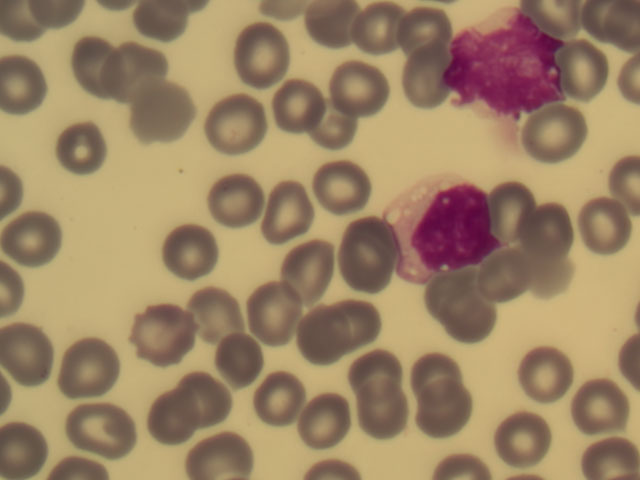RBC: (58, 36, 127, 101), (104, 33, 173, 98), (133, 77, 202, 142), (58, 117, 127, 182), (1, 206, 70, 271), (2, 320, 71, 385), (51, 334, 120, 399), (65, 395, 134, 460), (130, 305, 199, 370), (184, 278, 253, 343), (157, 217, 226, 282), (204, 170, 273, 235), (254, 177, 323, 242), (309, 154, 378, 219), (200, 93, 269, 158), (265, 74, 334, 139), (295, 91, 364, 156), (332, 56, 401, 121), (229, 24, 298, 89), (393, 46, 462, 111), (303, 7, 372, 72), (331, 286, 400, 351), (336, 223, 405, 288), (281, 233, 350, 298), (238, 284, 307, 349), (198, 329, 267, 394), (184, 365, 253, 430), (136, 398, 205, 463), (202, 415, 271, 480), (249, 360, 318, 425), (293, 386, 362, 451), (340, 344, 409, 409), (342, 385, 411, 450), (403, 339, 472, 404), (401, 380, 470, 445), (431, 297, 500, 362), (419, 272, 488, 337), (459, 250, 528, 315), (522, 206, 591, 271), (483, 180, 552, 245), (565, 192, 634, 257), (535, 107, 604, 172), (564, 42, 633, 107), (563, 366, 632, 431), (509, 342, 578, 407), (486, 405, 555, 470), (399, 1, 468, 65), (352, 1, 421, 65)
WBC: (380, 174, 500, 286), (445, 12, 567, 119)
